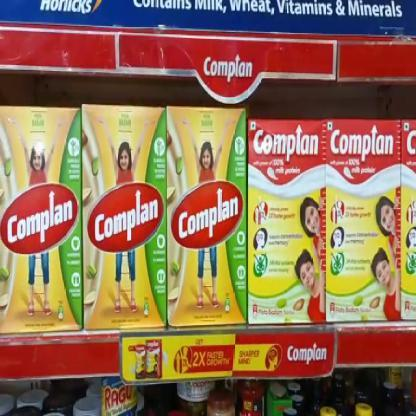Complan Pista Badam: (82, 103, 167, 334), (0, 110, 82, 336), (166, 110, 247, 327), (248, 122, 327, 322), (326, 119, 400, 319)
